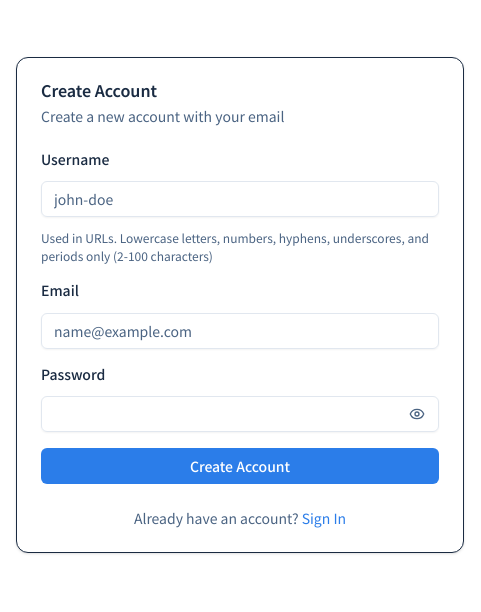
SignUpPage › should report a password the server rejects as too weak
The width and height of the screenshot is (481, 612).
In the field labelled "Username": (240, 199) 41,181 -> 439,217, type "testuser"
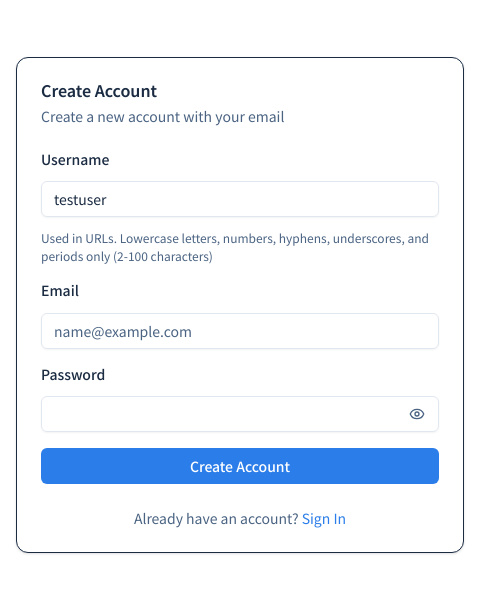
In the field labelled "Email": (240, 331) 41,313 -> 439,349, type "user@example.com"
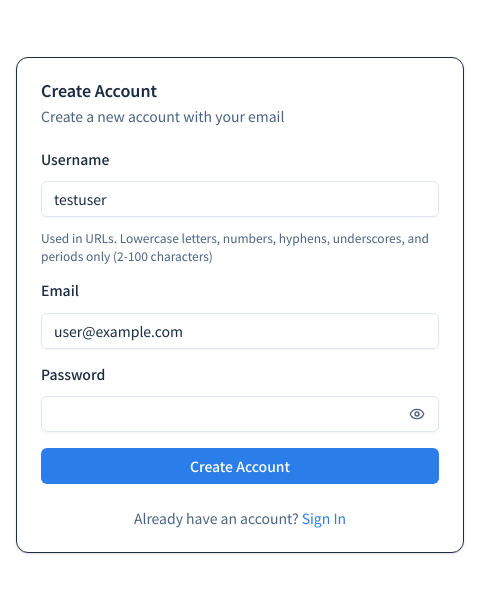
In the password field labelled "Password": (222, 414) 42,396 -> 401,432, type "passwordpassword"
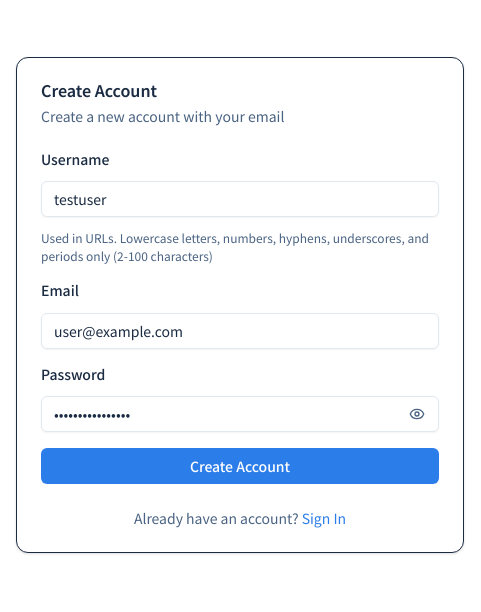
Click the button "Create Account": click(240, 466) 41,448 -> 439,484
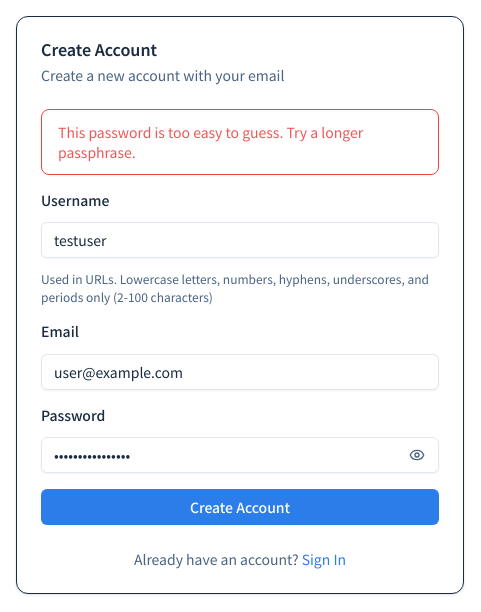
Result: the message shows "too easy to guess" at 58,122 -> 363,162
